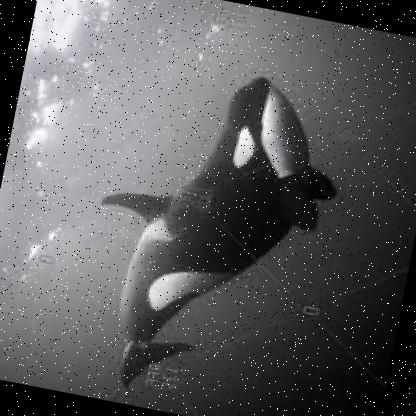killer_whale: (98, 37, 358, 383)
